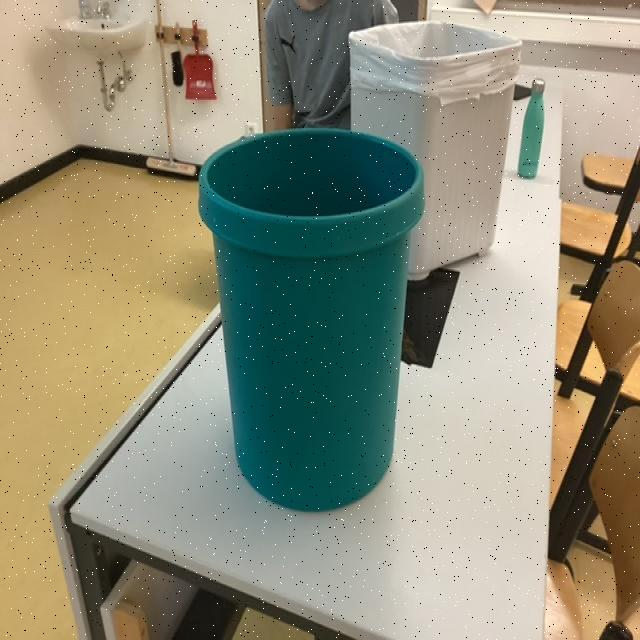garbage container: (188, 110, 434, 522), (337, 12, 529, 286)
